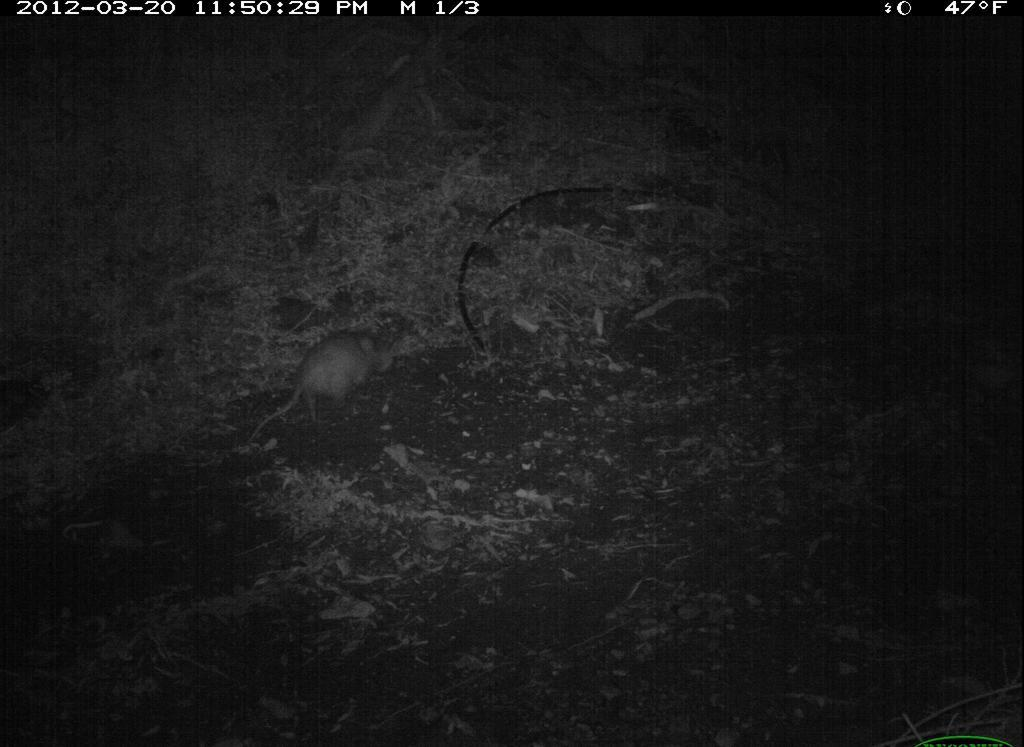opossum: (239, 329, 402, 441)
